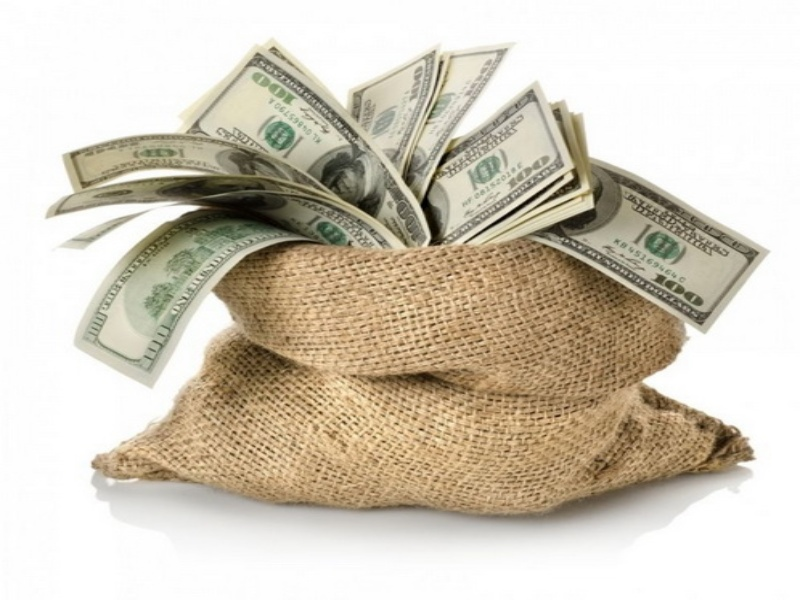cash: (47, 40, 772, 389)
